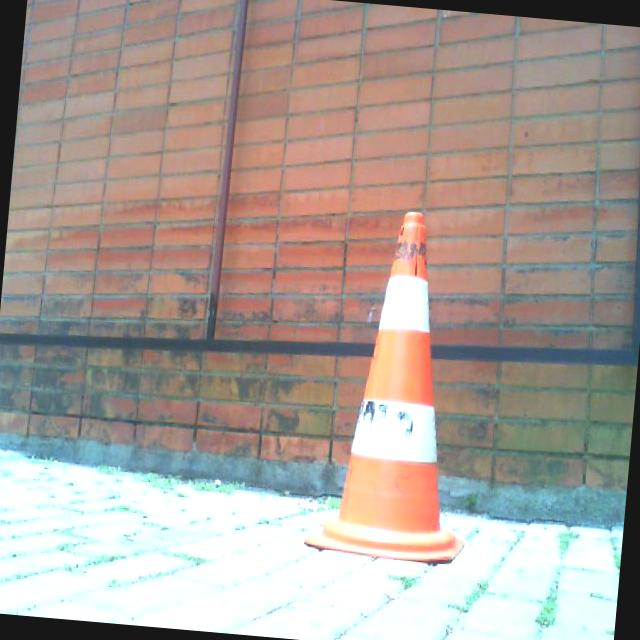Cone: (304, 206, 494, 568)
